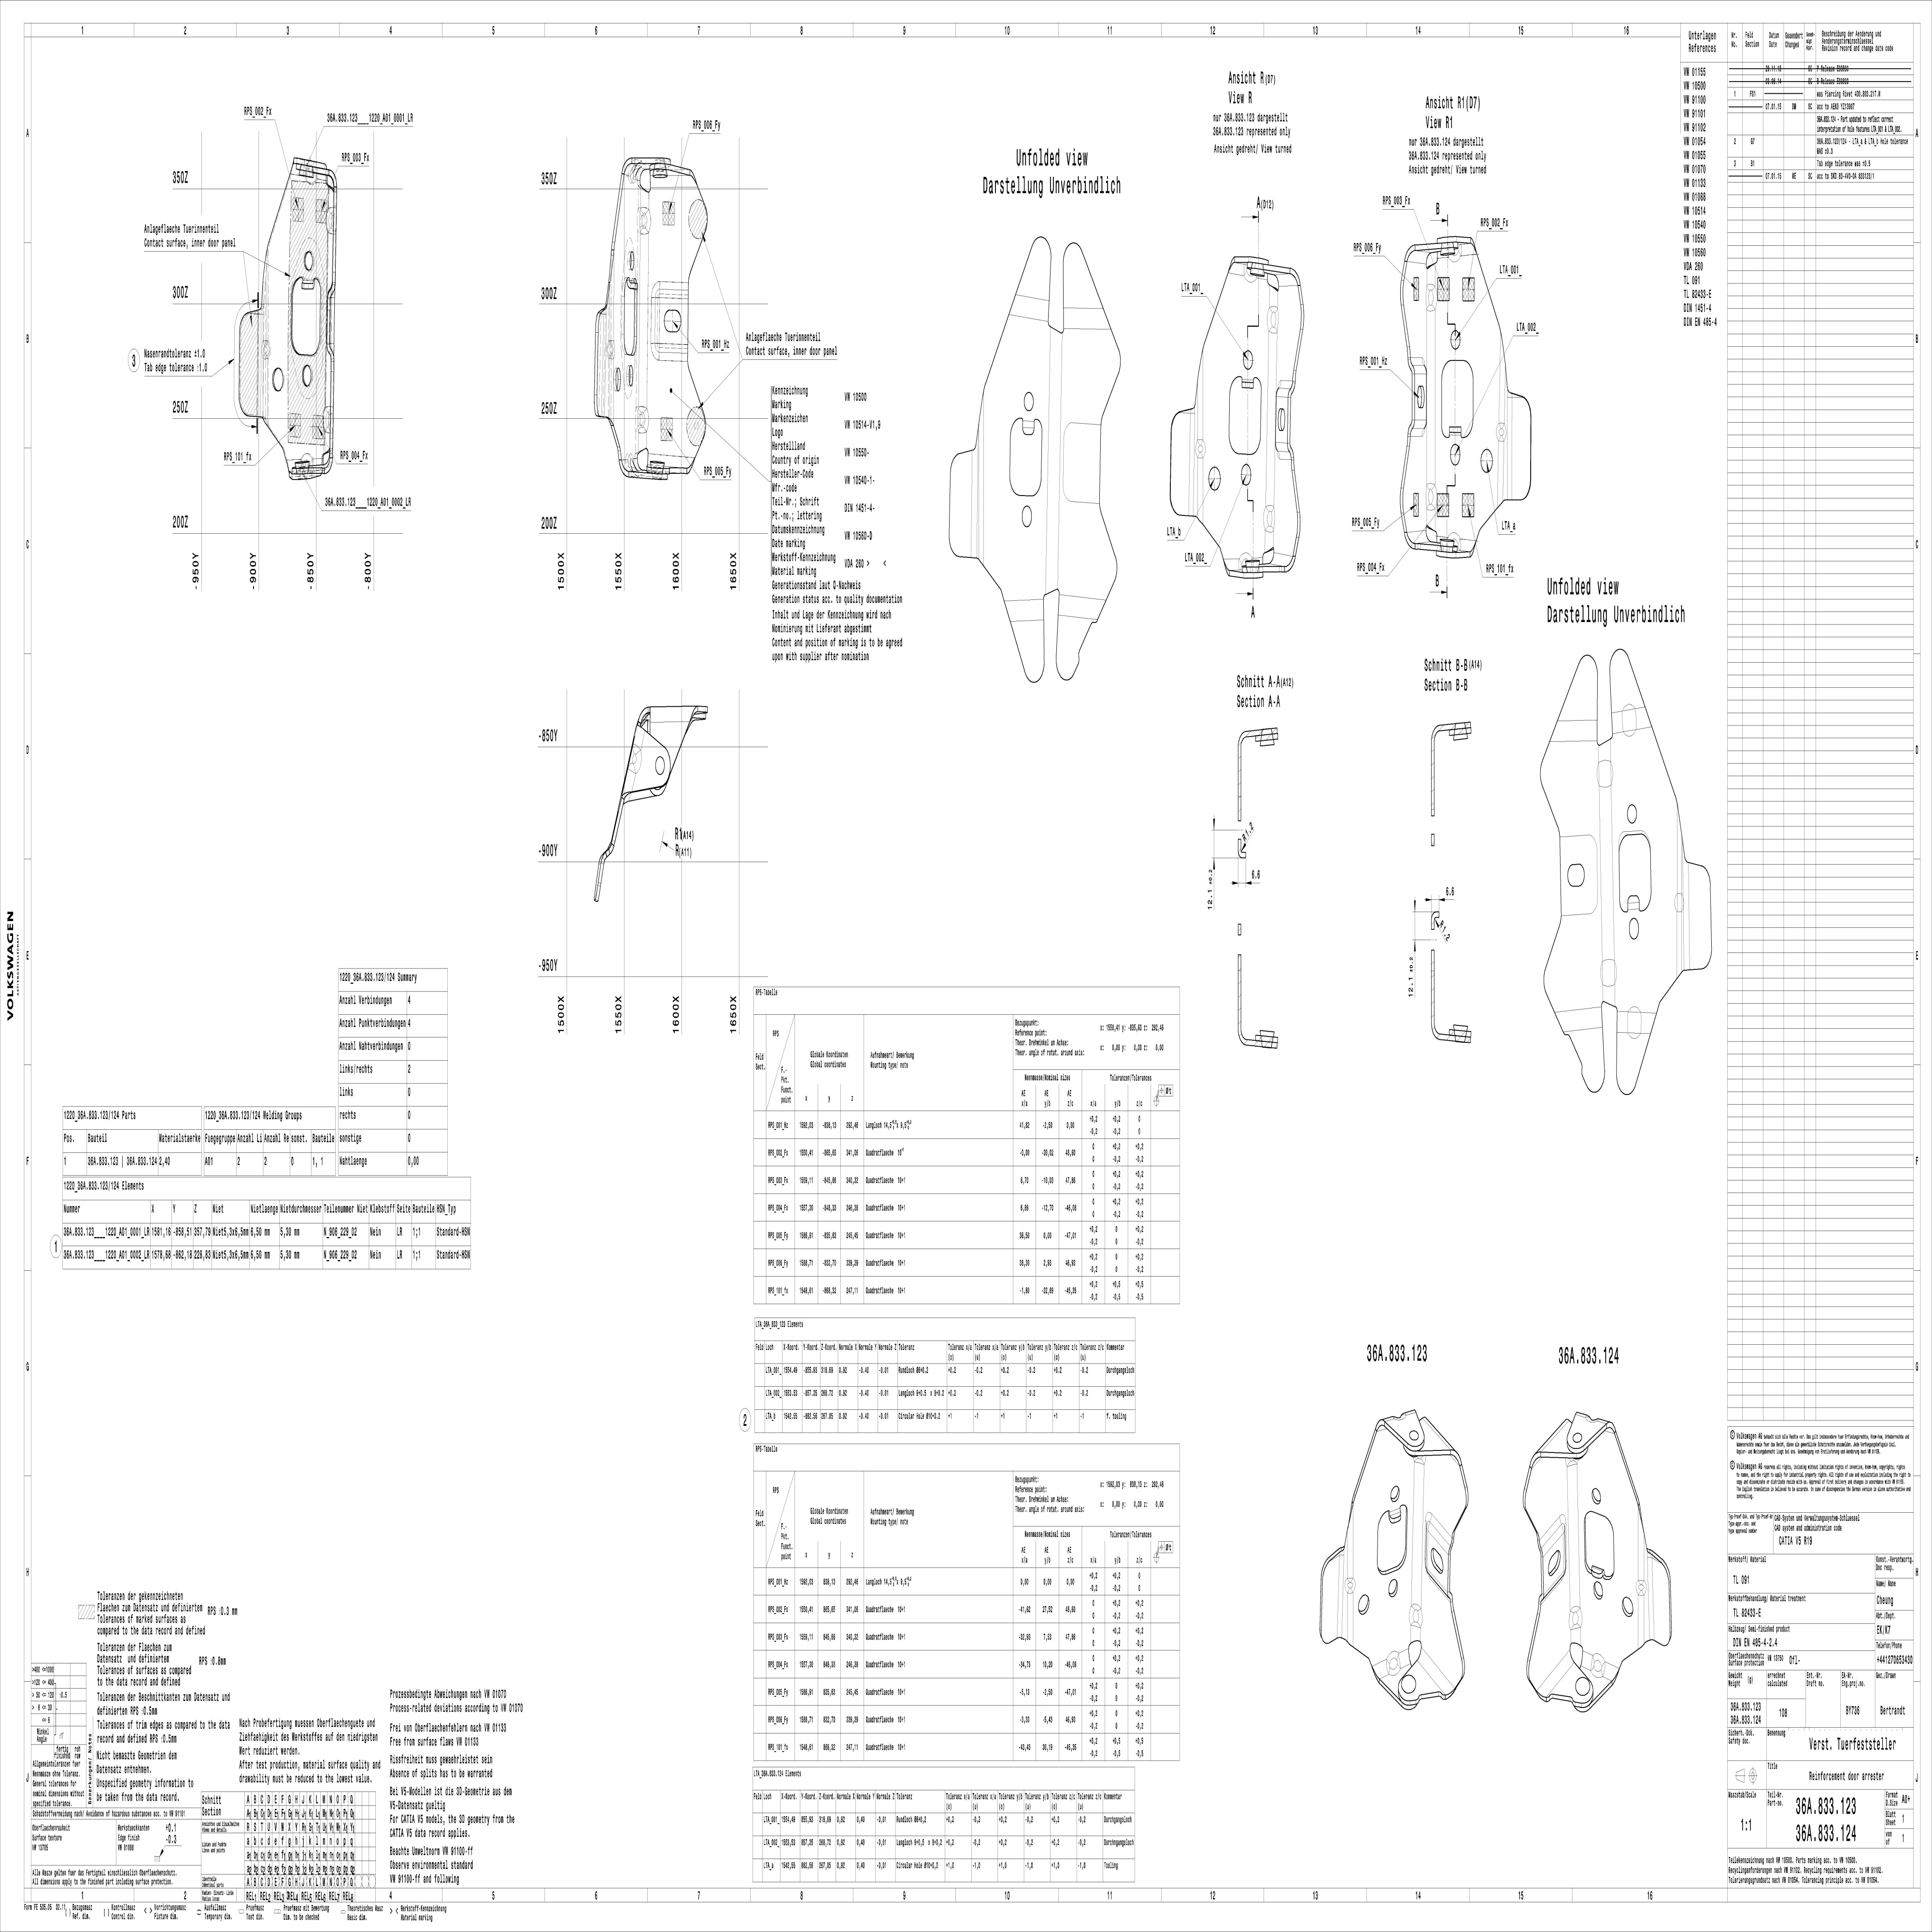BendingEdge: (1047, 321, 1065, 597), (1601, 739, 1616, 1006), (1265, 286, 1277, 562), (1427, 266, 1436, 554), (1564, 1467, 1583, 1605), (1408, 1464, 1426, 1602), (1538, 1654, 1576, 1695), (1416, 1653, 1453, 1694), (1554, 1006, 1602, 1036), (1608, 705, 1652, 737), (1059, 594, 1105, 621), (1011, 293, 1051, 323), (1551, 717, 1599, 742), (1063, 307, 1110, 328), (1005, 600, 1042, 622), (1619, 1012, 1656, 1034), (1525, 1449, 1547, 1473)
BendingEdgeCurve: (1445, 1445, 1468, 1469), (1605, 1420, 1617, 1433), (1374, 1419, 1386, 1430)
Embossment: (650, 280, 691, 363), (1423, 1510, 1453, 1603), (1536, 1513, 1568, 1598), (1407, 357, 1428, 440), (1275, 379, 1295, 462)
InnerContour: (1422, 1546, 1452, 1578), (1622, 913, 1644, 942), (664, 309, 683, 333), (1547, 1548, 1561, 1580), (1625, 801, 1641, 828), (1207, 466, 1222, 491), (1479, 447, 1493, 474), (271, 366, 285, 392), (1019, 505, 1034, 528), (1240, 348, 1255, 371), (1620, 1594, 1634, 1618), (1022, 390, 1036, 413), (302, 250, 317, 271), (1592, 1579, 1605, 1602), (1449, 442, 1462, 465), (301, 363, 313, 387), (1449, 328, 1463, 349), (1240, 462, 1252, 485), (653, 754, 666, 776), (1388, 1484, 1402, 1503), (1387, 1577, 1398, 1598), (1591, 1487, 1603, 1506), (1416, 385, 1425, 410), (1277, 408, 1286, 432), (627, 362, 634, 388), (614, 367, 621, 392), (629, 250, 635, 270)
Reinforcement: (625, 742, 646, 775), (636, 204, 652, 236), (1385, 1650, 1403, 1676), (1407, 1602, 1424, 1629), (635, 404, 650, 435), (1424, 283, 1438, 312), (1266, 304, 1279, 335), (1262, 503, 1276, 534), (1424, 481, 1438, 511), (1590, 1652, 1605, 1679), (1568, 1605, 1583, 1630), (322, 405, 334, 433), (326, 205, 337, 233), (1447, 531, 1463, 551), (1193, 438, 1207, 459), (1357, 1593, 1370, 1615), (1242, 264, 1257, 283), (1581, 1412, 1601, 1426), (1495, 420, 1507, 443), (1448, 245, 1463, 263), (1389, 1411, 1408, 1424), (260, 339, 271, 361), (1344, 1576, 1356, 1595), (1635, 1578, 1647, 1598), (607, 338, 616, 360), (1411, 1455, 1427, 1465), (1564, 1455, 1578, 1466)
